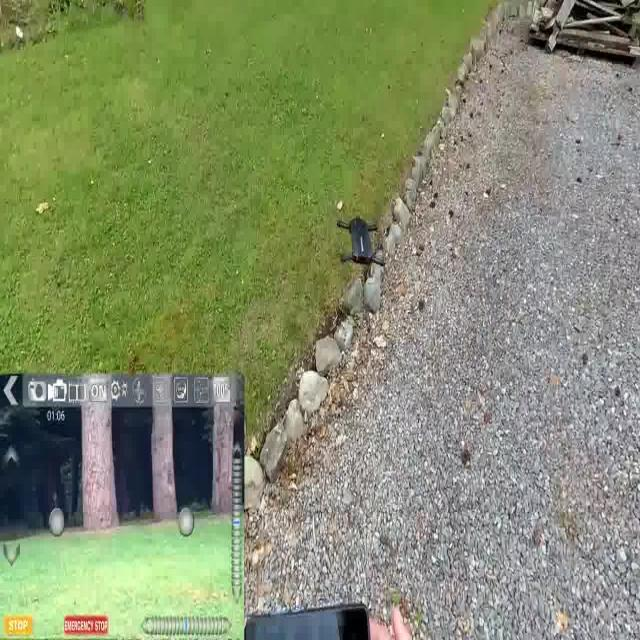drone: (331, 212, 391, 272)
